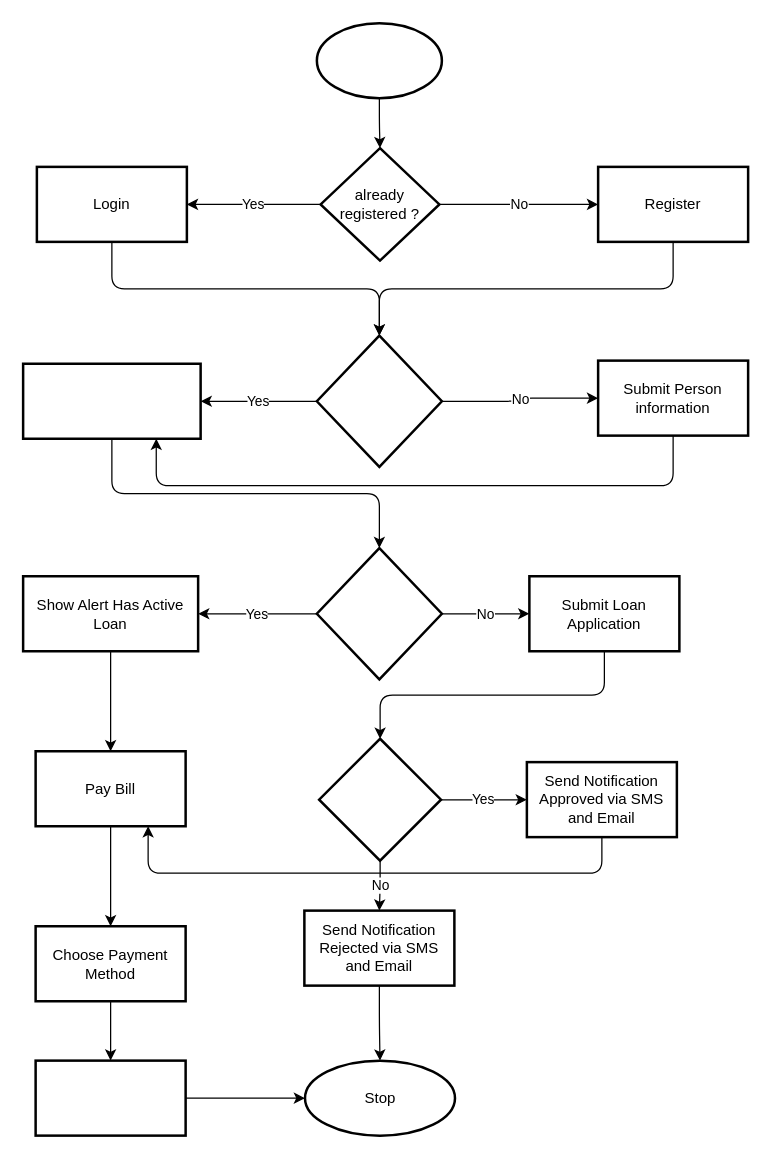
This 770x1158 diagram has some shape labels left out. The shapes that lost their labels are listed below. From the top down, each one's centre as x and y in pixels, then its label:
At point 378,60: "Start".
At point 111,400: "Choose Loan Product".
At point 378,401: "already submit personal info ?".
At point 378,613: "has active loan ?".
At point 379,799: "is approved ?".
At point 110,1097: "Pay".
